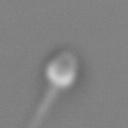normal: (28, 86, 58, 128)
